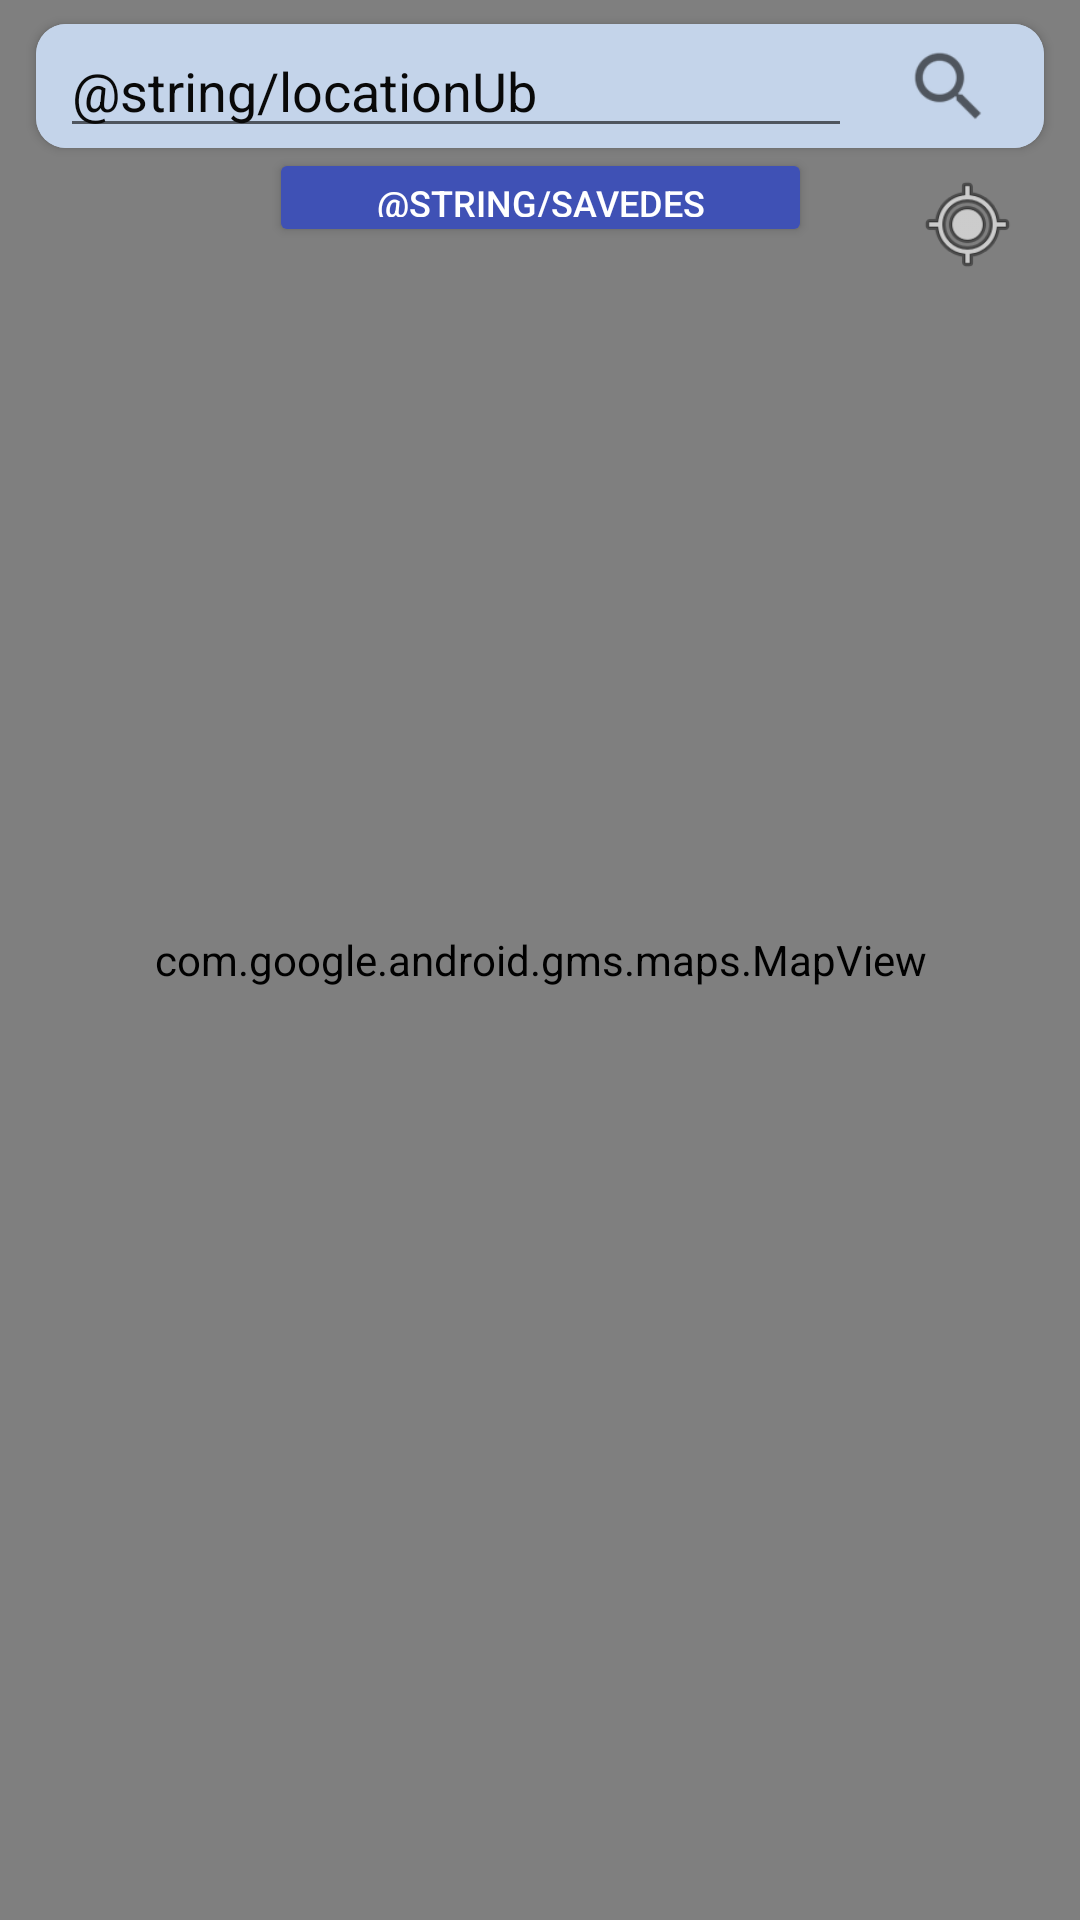

Icon click points for this 1080px x 1920px phone screenshot, format (x=x, y=y):
mylocation: (x=967, y=224)
